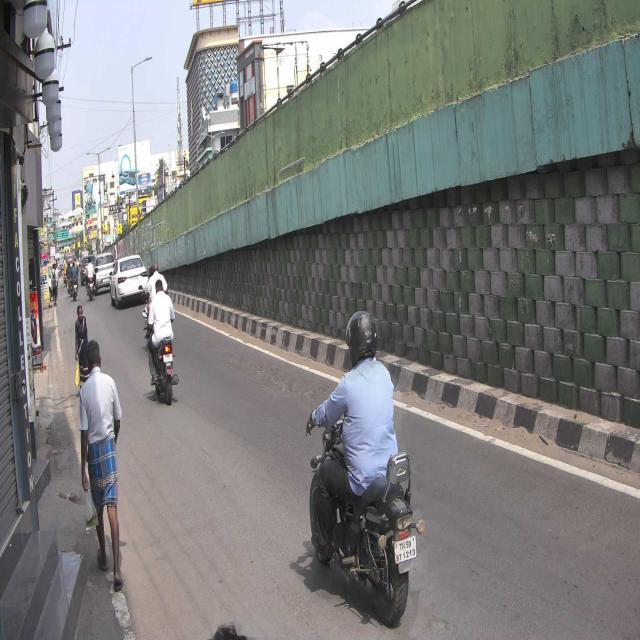single_rider: (308, 304, 426, 628)
